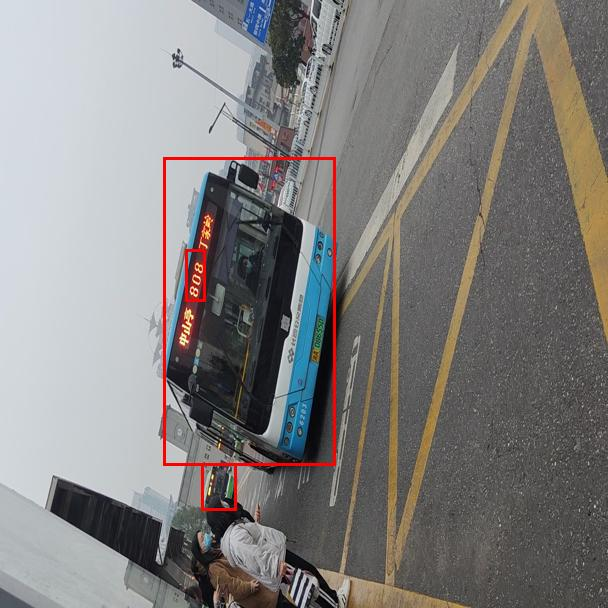bus: (163, 157, 335, 465), (201, 463, 236, 510)
screen: (185, 249, 205, 301)
